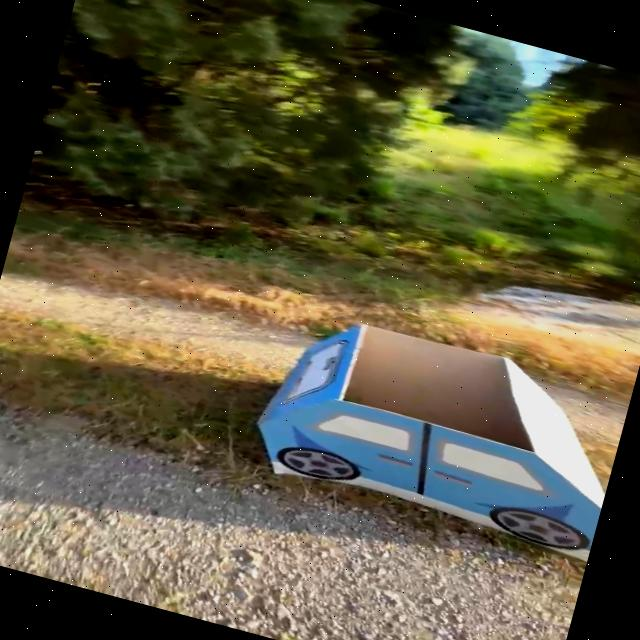blue_car: (197, 272, 637, 593)
